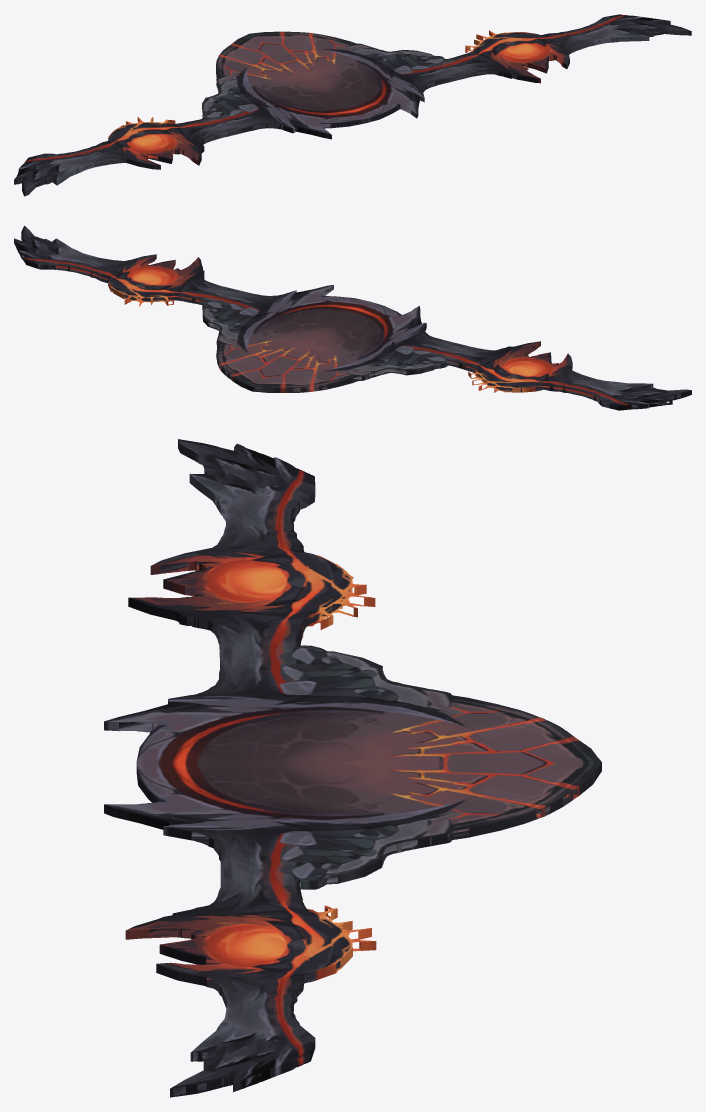
Rendered from Tru2.fbx.
3 views of the same model, one above another, from view 1: azimuth 30°, elevation 25°; view 2: azimuth 150°, elevation 25°; view 3: azimuth 270°, elevation 25° (orthographic). The views are drawn at different scales.
Parts seen in each view (by area): view 1: Tru2; view 2: Tru2; view 3: Tru2.
Part boxes in pixels (bbox=[...]): Tru2: bbox=[14, 14, 691, 196]; Tru2: bbox=[14, 226, 691, 410]; Tru2: bbox=[104, 439, 601, 1097].
Size of the model in its own units: 21.09 by 0.1358 by 6.83.
